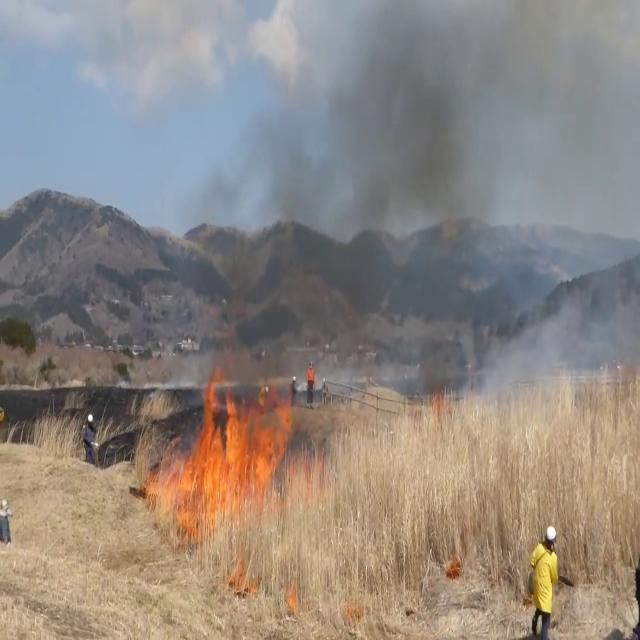Fire: (149, 362, 299, 524)
Smoke: (160, 1, 638, 383), (354, 1, 640, 411)
